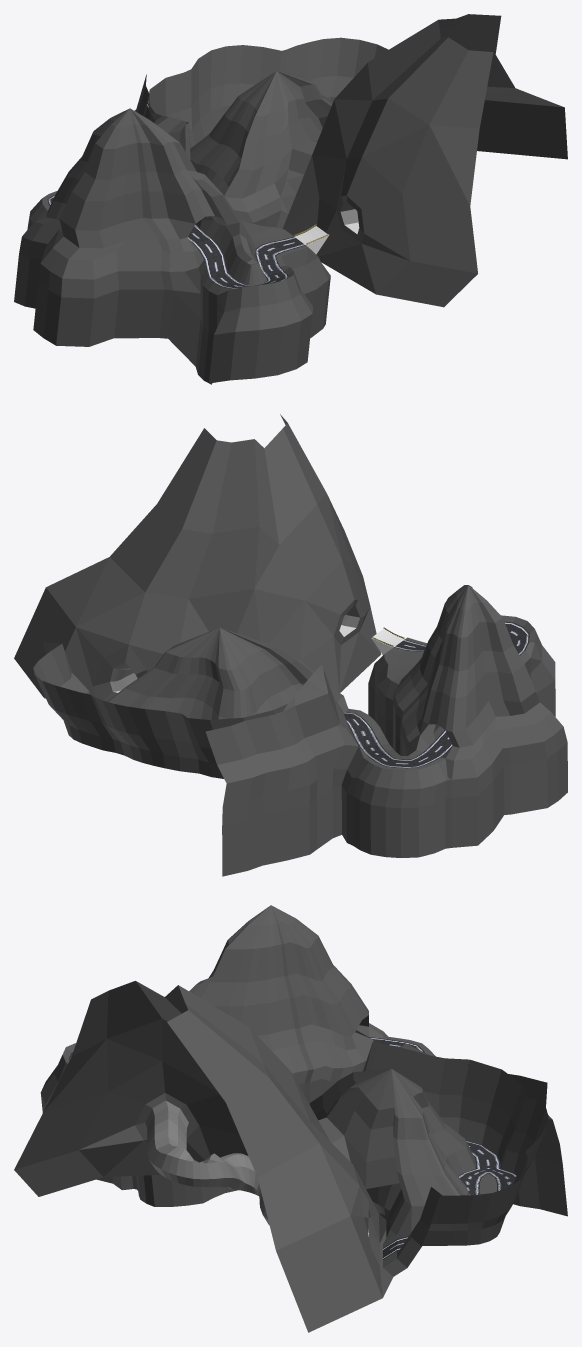
The model's file is Mountains.fbx.
3 views of the same model, one above another, from view 1: azimuth 30°, elevation 25°; view 2: azimuth 150°, elevation 25°; view 3: azimuth 270°, elevation 25° (orthographic). The views are drawn at different scales.
Parts seen in each view (by area): view 1: Ground, Road; view 2: Ground, Road; view 3: Ground, Road.
Boxes of the visible parts, <box> form: Ground: <box>14,14,567,384</box>; Road: <box>47,133,328,288</box>; Ground: <box>14,414,567,876</box>; Road: <box>343,621,529,768</box>; Ground: <box>14,905,567,1332</box>; Road: <box>69,1037,516,1259</box>.
Bounding box in the file's own units: 96648 × 48557 × 78890.
